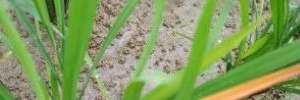RiceTungro: (201, 72, 264, 100)
